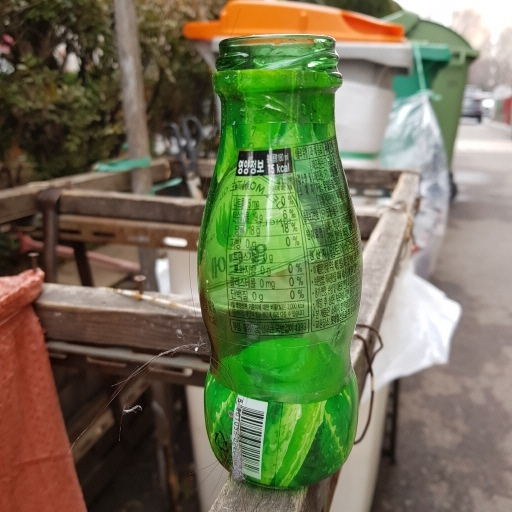Glass_4: (195, 33, 356, 492)
